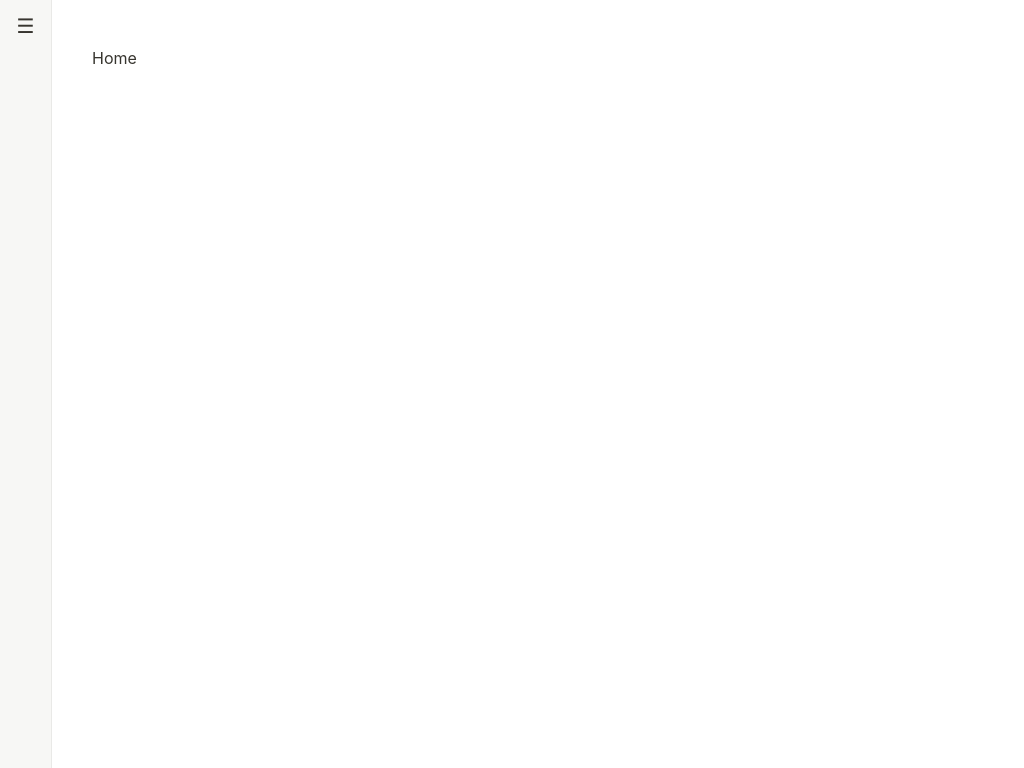
AppLayout sidebar drawer › closes after navigating from the drawer
Click the button named "Open sidebar" at (26, 26), box [4, 4, 48, 48]
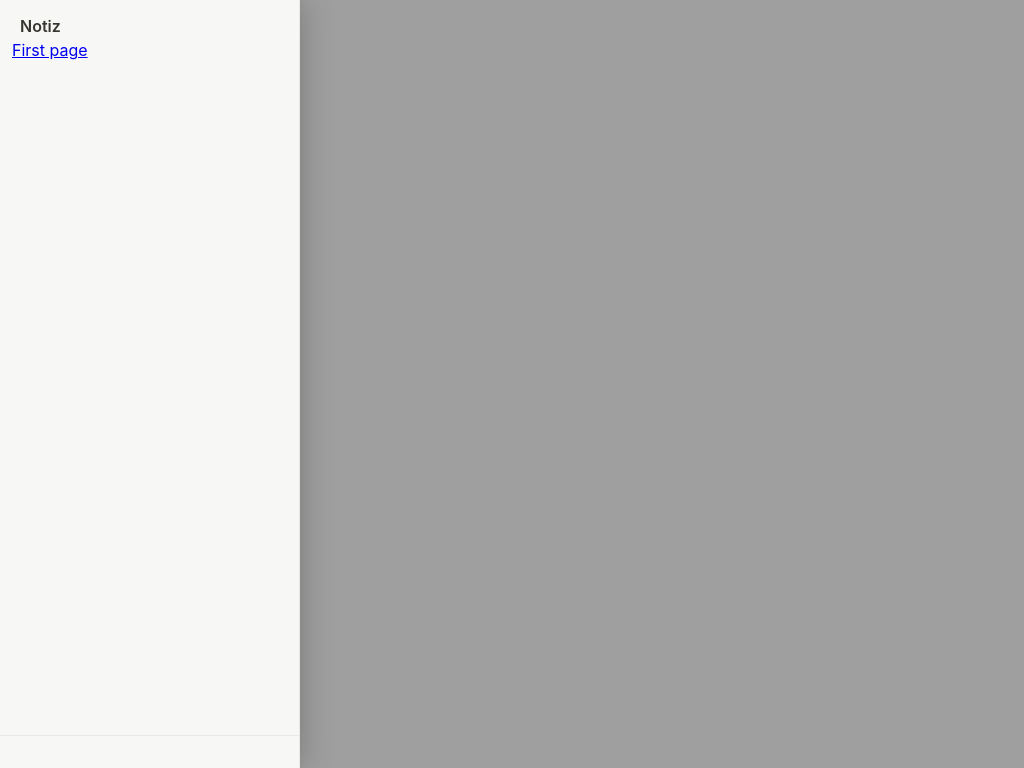
Click the link "First page" at (50, 50), box [12, 40, 88, 60]
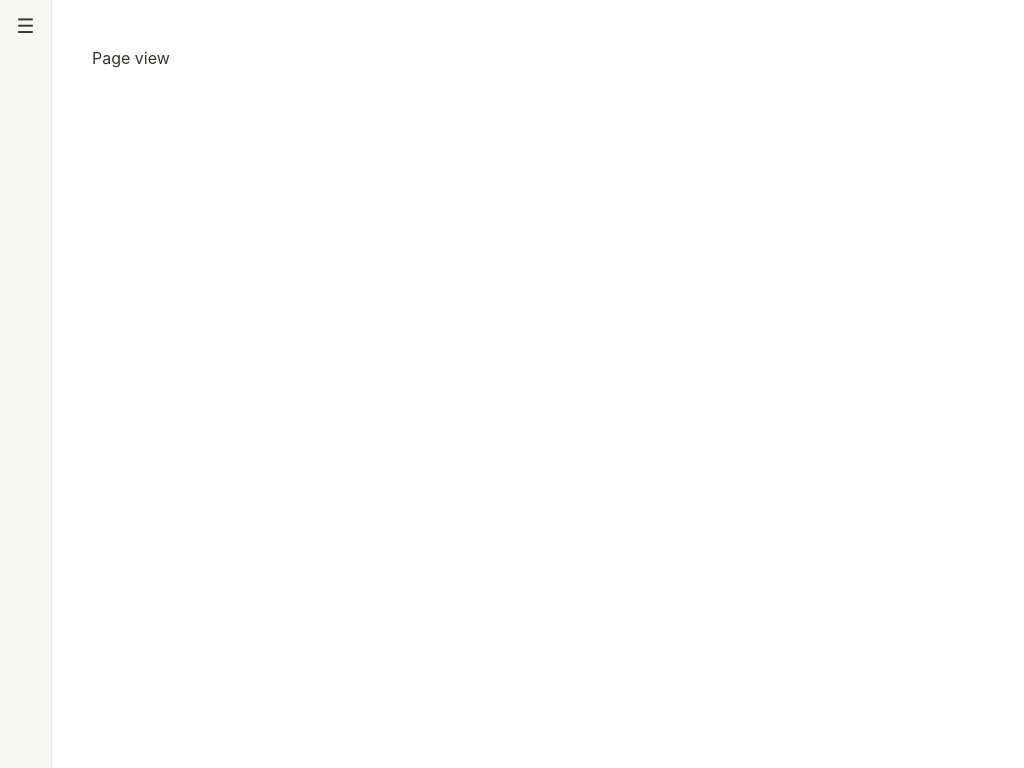
Result: the text "Page view" is shown at [92, 48, 170, 68]
